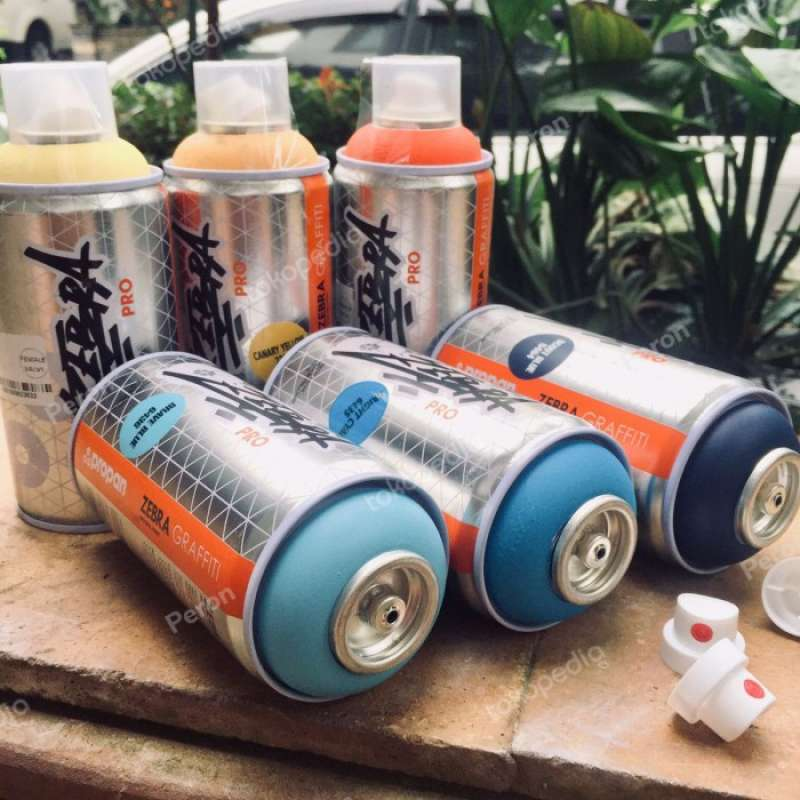cylinder: (68, 352, 449, 701), (262, 325, 638, 632), (430, 304, 800, 575), (1, 165, 164, 535), (160, 155, 334, 391), (331, 149, 496, 360)
